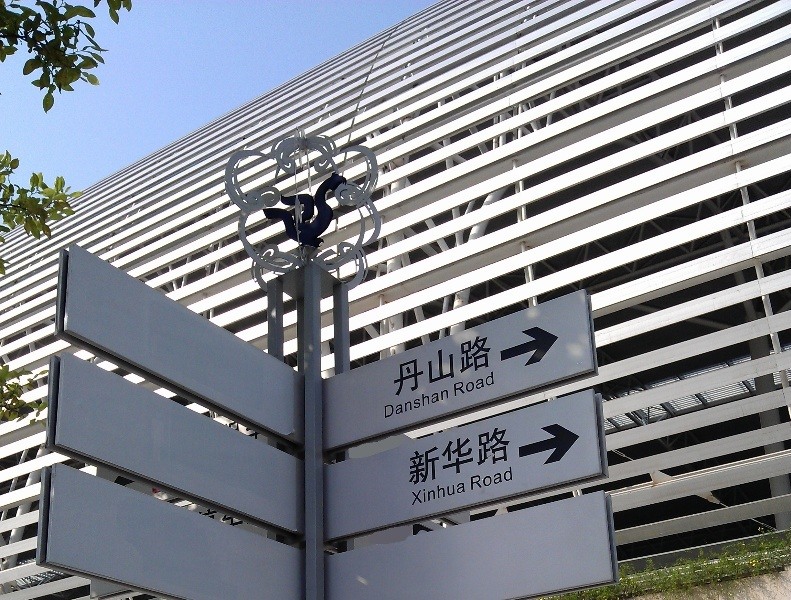text: (401, 331, 416, 399), (417, 331, 432, 399), (433, 331, 448, 399), (449, 331, 464, 399), (465, 331, 480, 399), (417, 423, 432, 488), (433, 423, 448, 488), (449, 423, 464, 488), (465, 423, 480, 488), (481, 423, 496, 488), (497, 423, 512, 488), (481, 331, 494, 399), (385, 384, 400, 419), (401, 384, 416, 419), (417, 384, 432, 419), (433, 384, 448, 419), (408, 423, 416, 488), (393, 331, 400, 399), (417, 477, 432, 507), (433, 477, 448, 507), (449, 477, 464, 507), (465, 370, 480, 399), (481, 370, 496, 399), (451, 370, 464, 399), (481, 465, 496, 490), (497, 465, 512, 490), (468, 465, 480, 490), (411, 477, 416, 507), (449, 384, 451, 419), (513, 423, 514, 488), (513, 465, 515, 490), (465, 477, 466, 507), (497, 370, 498, 399)
